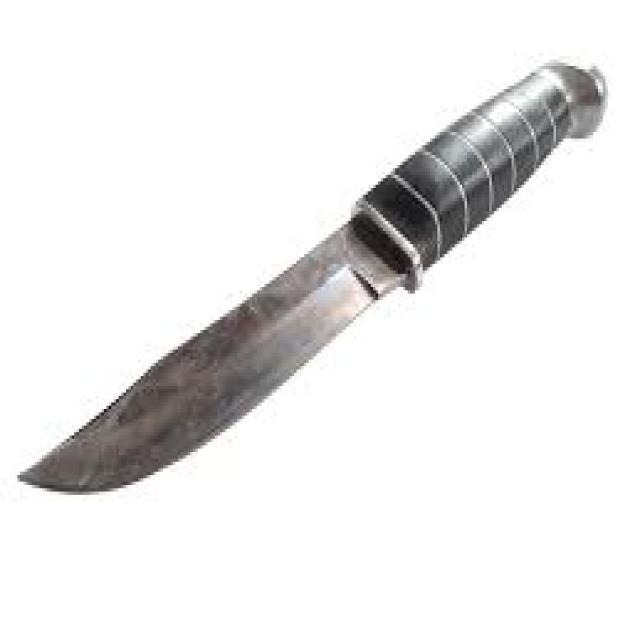Knife: (20, 66, 608, 492)
